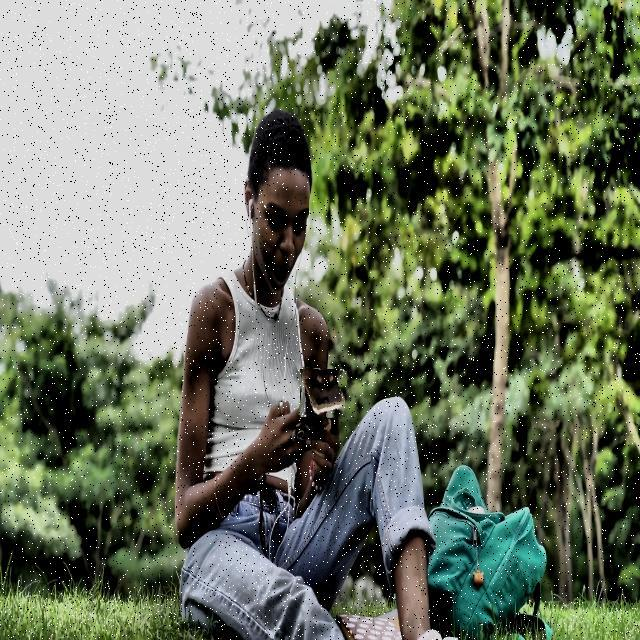Phone: (299, 368, 346, 418)
